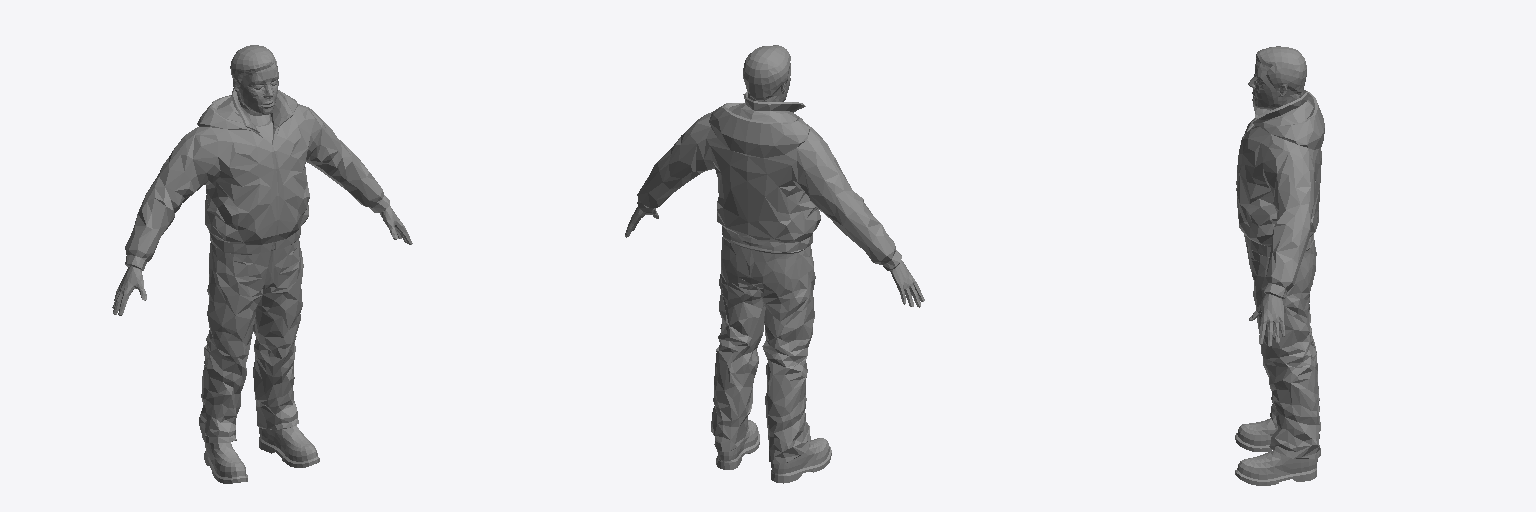
The model's file is rescue_randy.obj.
3 views of the same model, side by side, from view 1: azimuth 30°, elevation 25°; view 2: azimuth 150°, elevation 25°; view 3: azimuth 270°, elevation 25° (orthographic).
Visible parts, largest first — view 1: Object014_Object014Mesh; view 2: Object014_Object014Mesh; view 3: Object014_Object014Mesh.
Part boxes in pixels (bbox=[...]): Object014_Object014Mesh: bbox=[112, 45, 412, 483]; Object014_Object014Mesh: bbox=[625, 45, 924, 483]; Object014_Object014Mesh: bbox=[1235, 46, 1324, 485].
Size of the model in its own units: 1.36 by 1.82 by 0.3572.